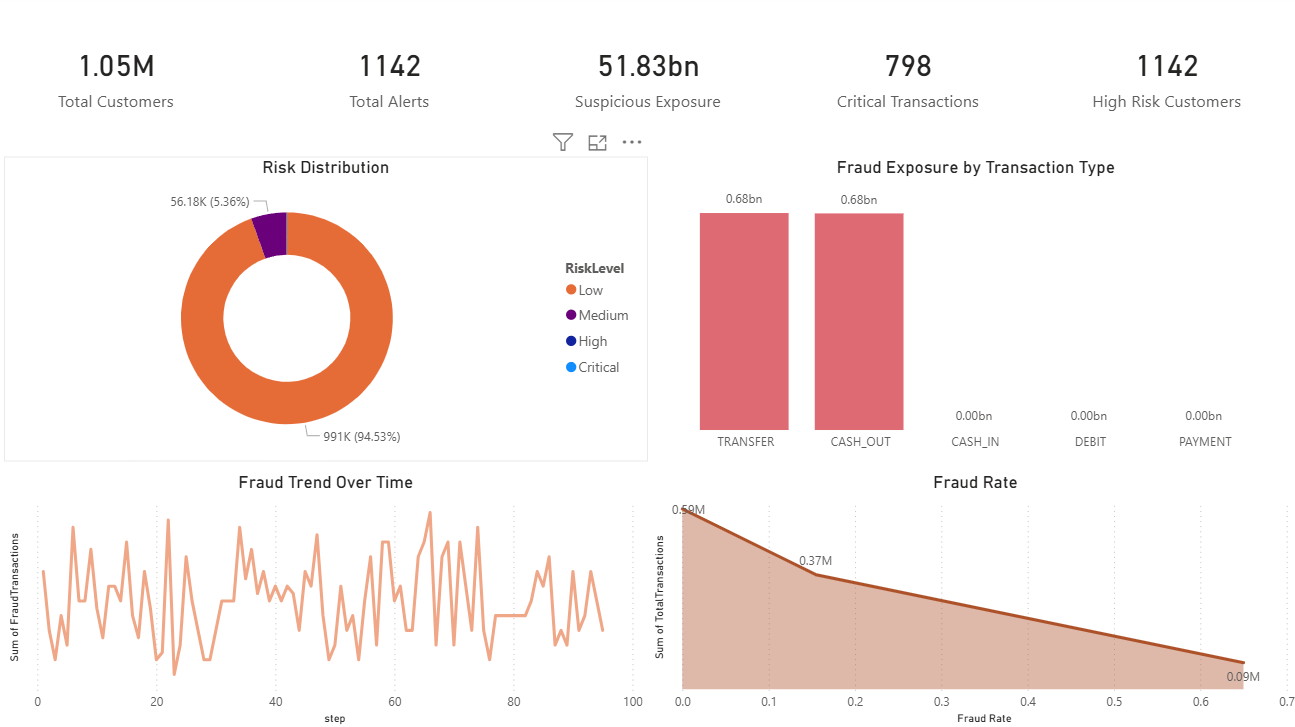

The dashboard page shown, as its layout file describes it:
{"tool":"powerbi","page":{"name":"Page 1","canvas":[1280,720],"ordinal":0},"visuals":[{"type":"card","fields":{"Values":["CountNonNull(AlertQueue.CustomerID)"]},"box":[264.8,0,242.9,159.2],"z":1},{"type":"card","fields":{"Values":["Sum(HighRiskTransactions.amount)"]},"box":[507.7,0,264.8,159.2],"z":2},{"type":"card","fields":{"Values":["HighRiskTransactions.Measure"]},"box":[761.6,0,264.8,159.2],"z":3},{"type":"card","fields":{"Values":["CustomerRisk.High Risk Customers"]},"box":[1015.4,0,264.8,159.2],"z":4},{"type":"card","fields":{"Values":["CountNonNull(CustomerRisk.CustomerID)"]},"box":[0,0,238.8,159.2],"z":5},{"type":"clusteredColumnChart","title":"Fraud Exposure by Transaction Type","fields":{"Category":["TransactionSummary.TransactionType"],"Y":["Sum(TransactionSummary.FraudExposure)"]},"box":[640.8,159.2,639.5,297.8],"z":6},{"type":"donutChart","title":"Risk Distribution","fields":{"Category":["CustomerRisk.RiskLevel"],"Y":["CountNonNull(CustomerRisk.CustomerID)"]},"box":[9.6,159.2,629.8,297.8],"z":7},{"type":"lineChart","title":"Fraud Trend Over Time","fields":{"Category":["DailyTransactionMetrics.step"],"Y":["Sum(DailyTransactionMetrics.FraudTransactions)"]},"box":[10,467,630,253],"z":8},{"type":"lineChart","title":"Fraud Rate","fields":{"Category":["TransactionSummary.FraudRate"],"Y":["Sum(TransactionSummary.TotalTransactions)"]},"box":[641,467,639,253],"z":9}]}

Visuals, with their boxes in screenshot pixels (x1, y1, x2, y2), scaled from the page's 1280x720 canvas onto the 1295x727 screenshot:
card - CountNonNull(AlertQueue.CustomerID): x1=268 y1=0 x2=514 y2=161
card - Sum(HighRiskTransactions.amount): x1=514 y1=0 x2=782 y2=161
card - HighRiskTransactions.Measure: x1=771 y1=0 x2=1038 y2=161
card - CustomerRisk.High Risk Customers: x1=1027 y1=0 x2=1294 y2=161
card - CountNonNull(CustomerRisk.CustomerID): x1=0 y1=0 x2=242 y2=161
"Fraud Exposure by Transaction Type" clusteredColumnChart: x1=648 y1=161 x2=1294 y2=461
"Risk Distribution" donutChart: x1=10 y1=161 x2=647 y2=461
"Fraud Trend Over Time" lineChart: x1=10 y1=472 x2=648 y2=726
"Fraud Rate" lineChart: x1=649 y1=472 x2=1294 y2=726
